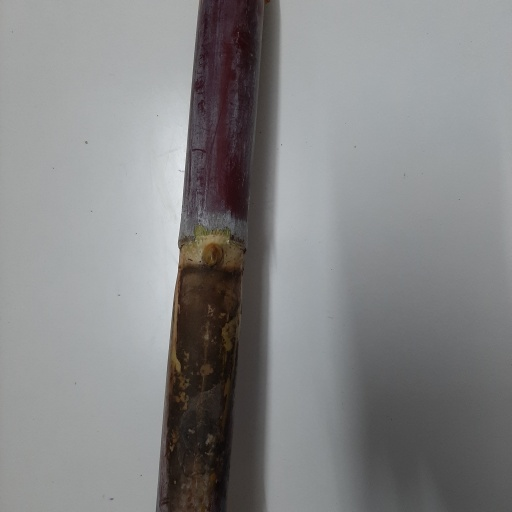Bud: (202, 242, 222, 268)
